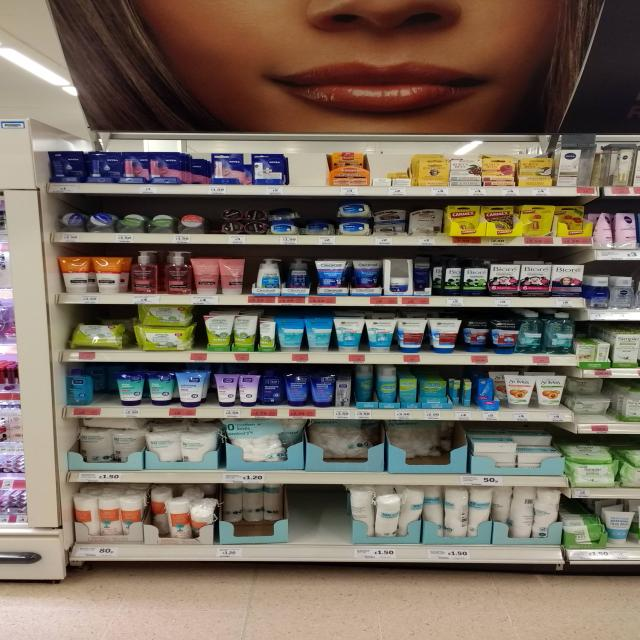void: (292, 483, 346, 562), (290, 149, 327, 196)
